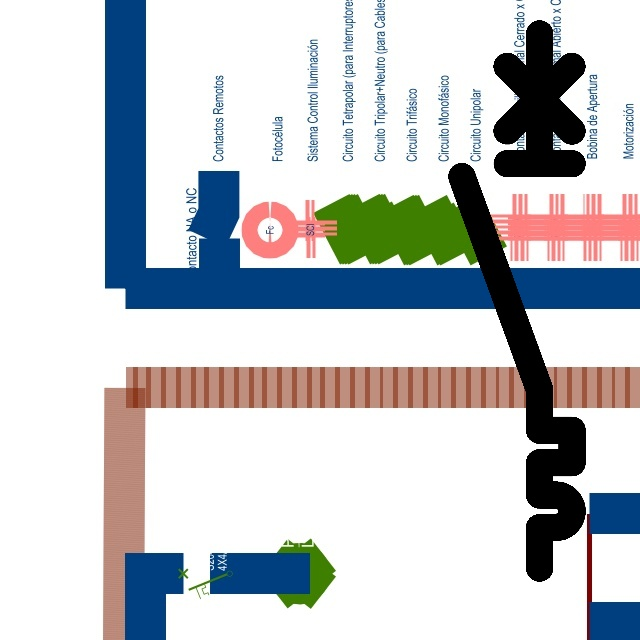interruptor_termomagnetico: (448, 20, 586, 582)
